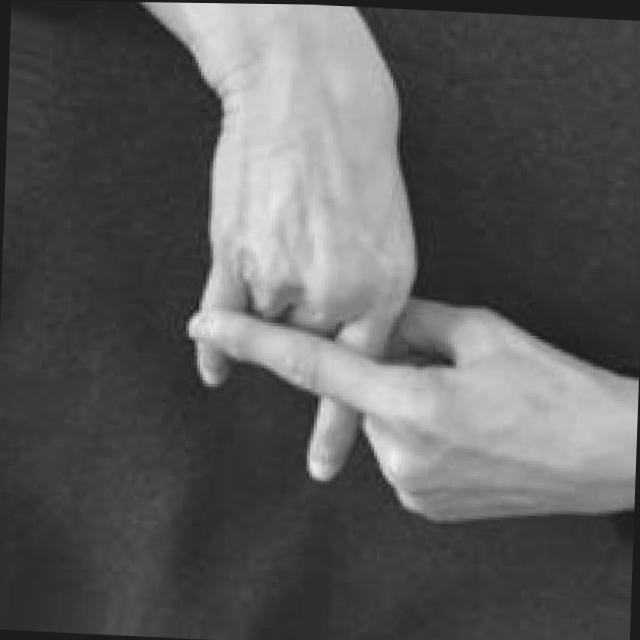H: (179, 35, 640, 535)
